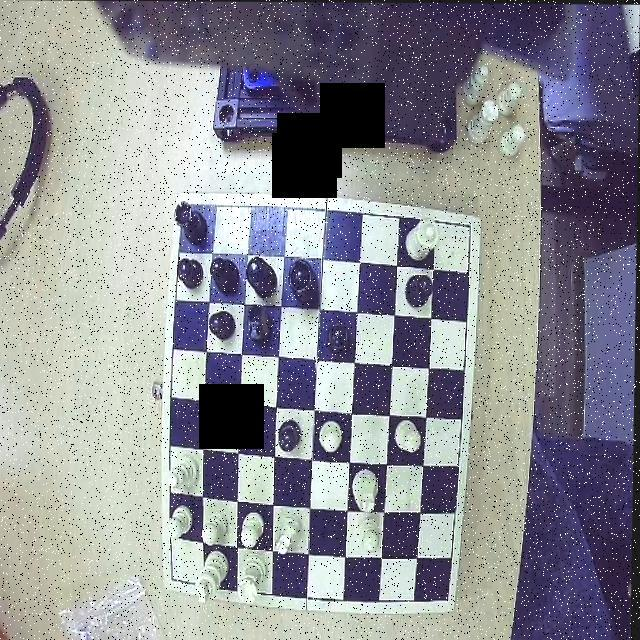chess-table-corners: (448, 217, 479, 244), (176, 198, 206, 224), (431, 580, 458, 608), (167, 564, 190, 590)
